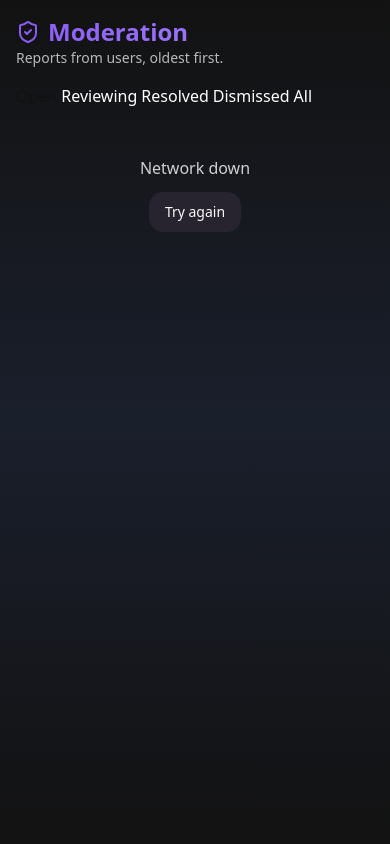
Moderation page › offers a retry when the queue cannot be loaded
This screenshot has width=390, height=844.
Expected: the message reads "Network down", [140,157,250,179]
Step 1. Click the button "Try again" → {"x": 195, "y": 212}, box [149,192,241,232]
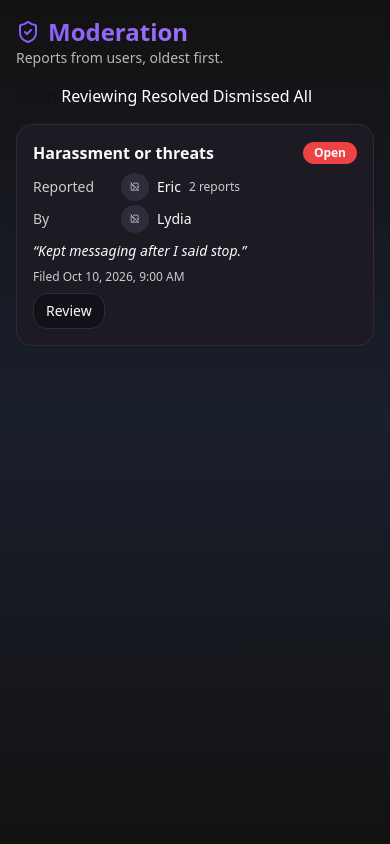
Expected: the list item is shown, [16,124,374,346]
